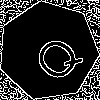Q: (23, 26, 87, 88)
